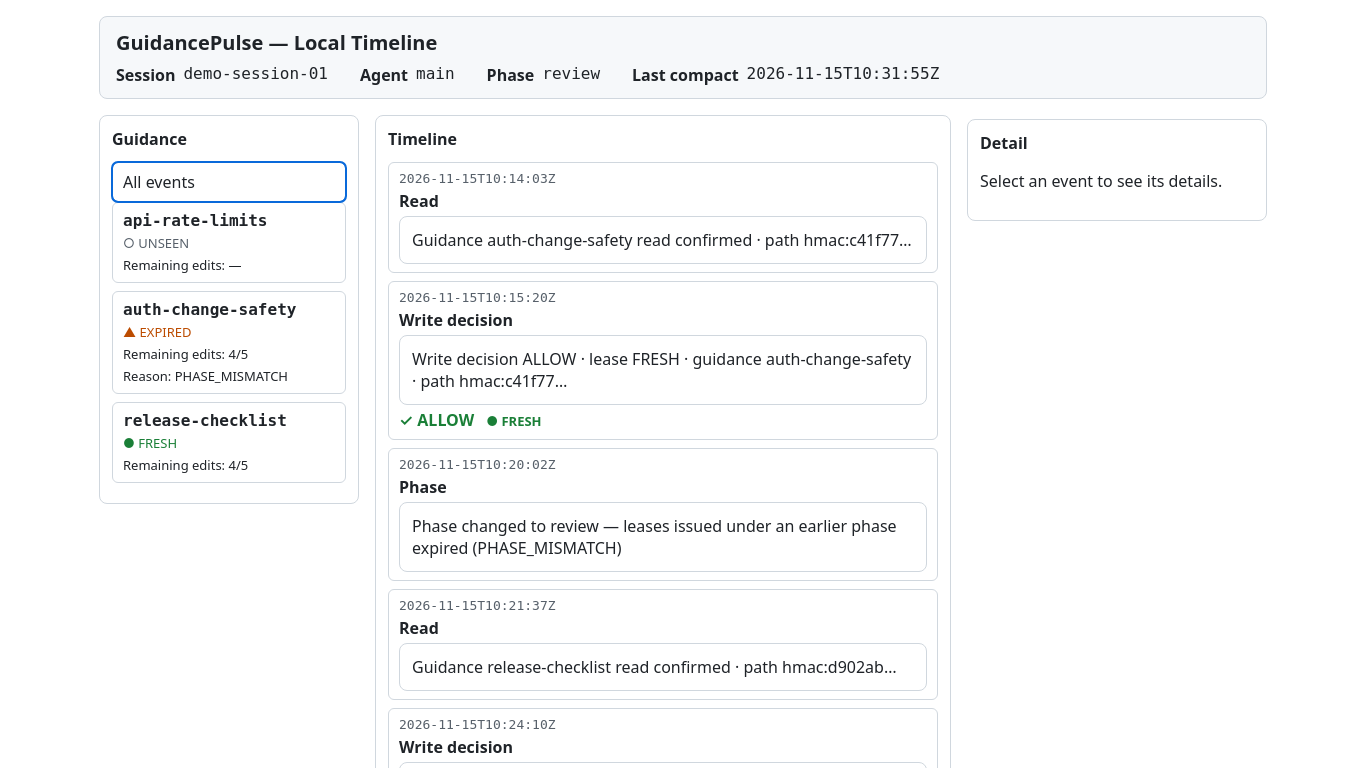
Test: App dashboard › filters the timeline when a guidance id is clicked
Click the button with test id "guidance-release-checklist". click: (229, 442)
box: [112, 402, 346, 483]
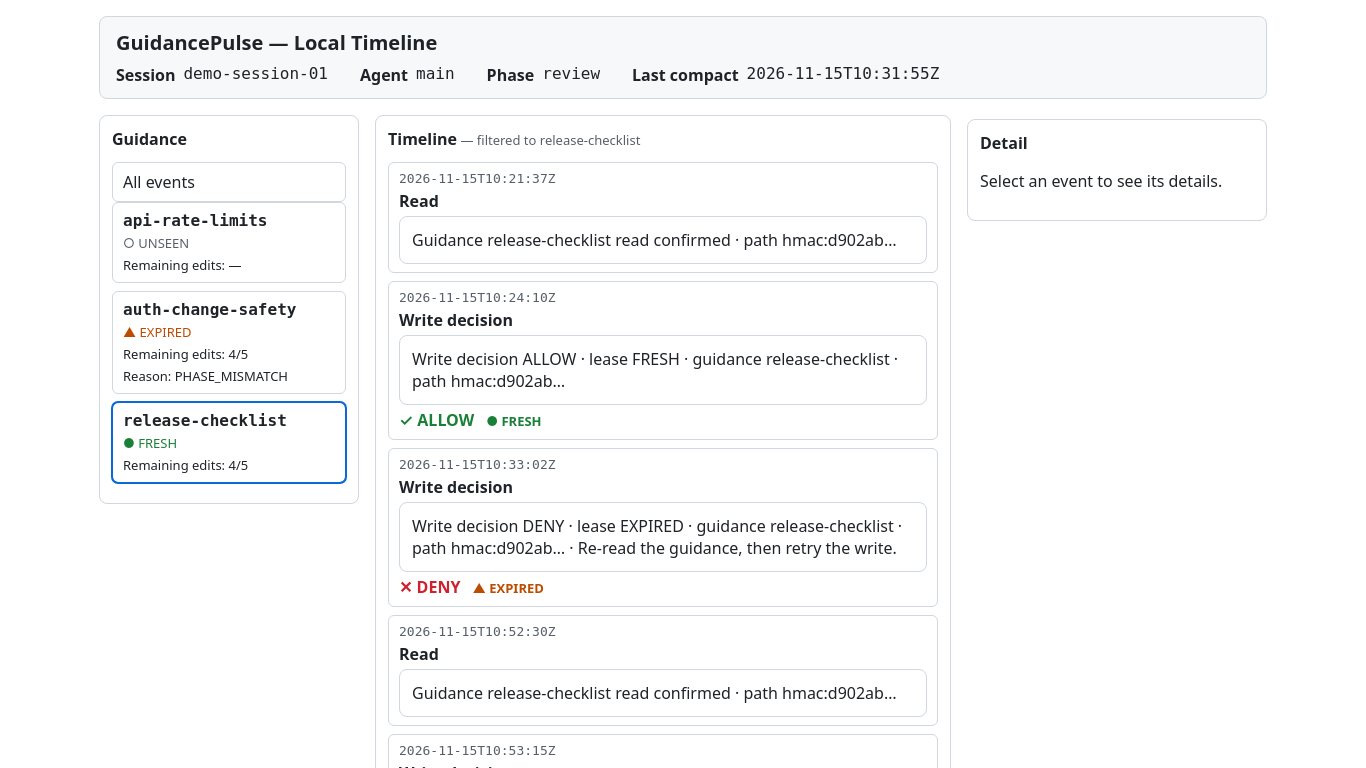
Result: the text "— filtered to release-checklist" is shown at [457, 131, 640, 149]
Click the button "All events". click: (229, 182)
box: [112, 162, 346, 202]
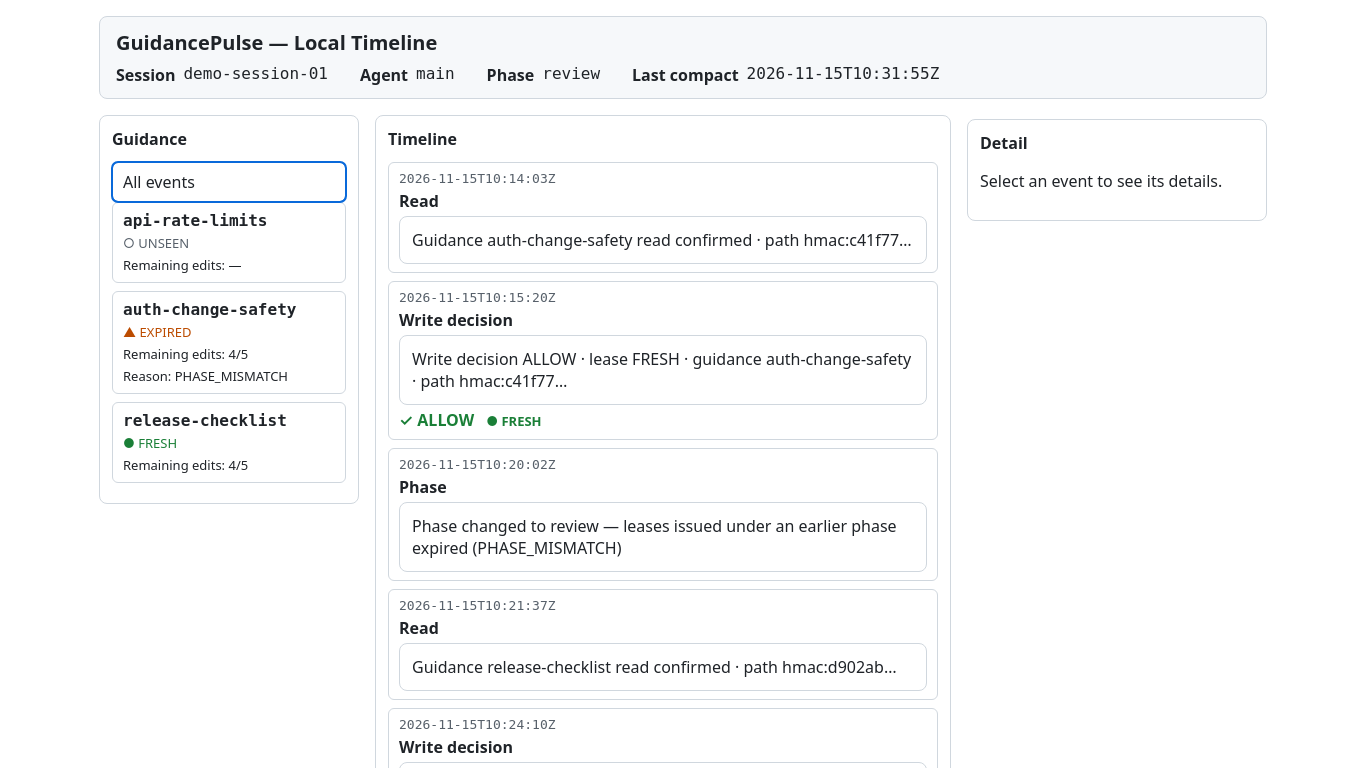
Result: the text "Write decision" is shown 5 times
